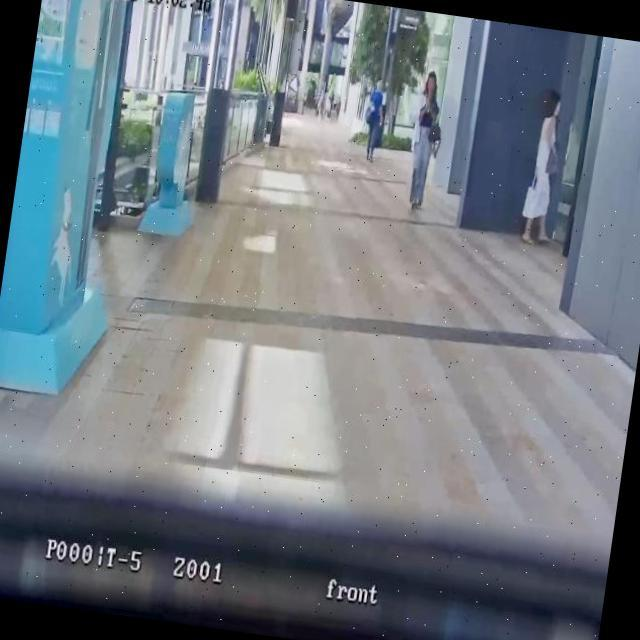person: (518, 94, 566, 248), (401, 68, 448, 214), (359, 78, 388, 164), (316, 92, 328, 125), (332, 93, 342, 123)
